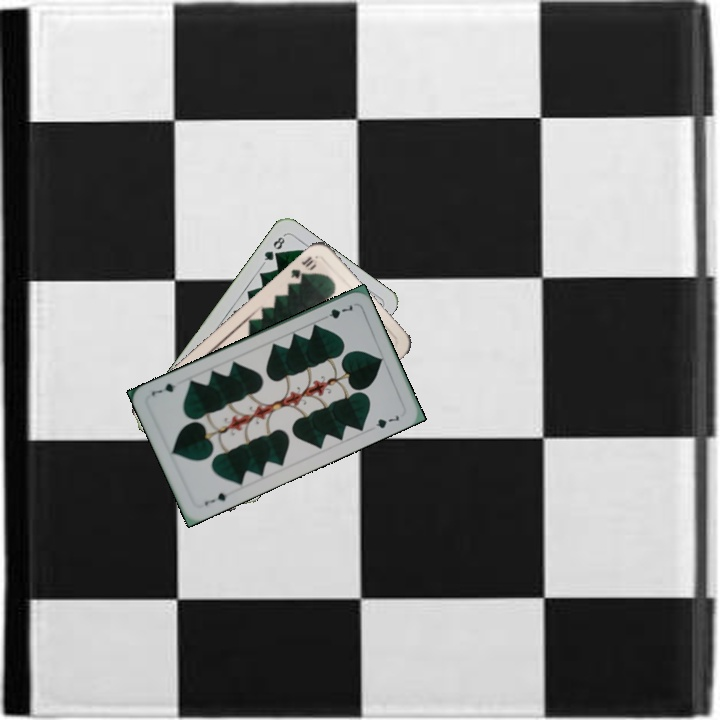G10: (287, 252, 316, 282)
G7: (317, 300, 355, 323), (200, 489, 230, 508)
G8: (259, 231, 289, 266)
